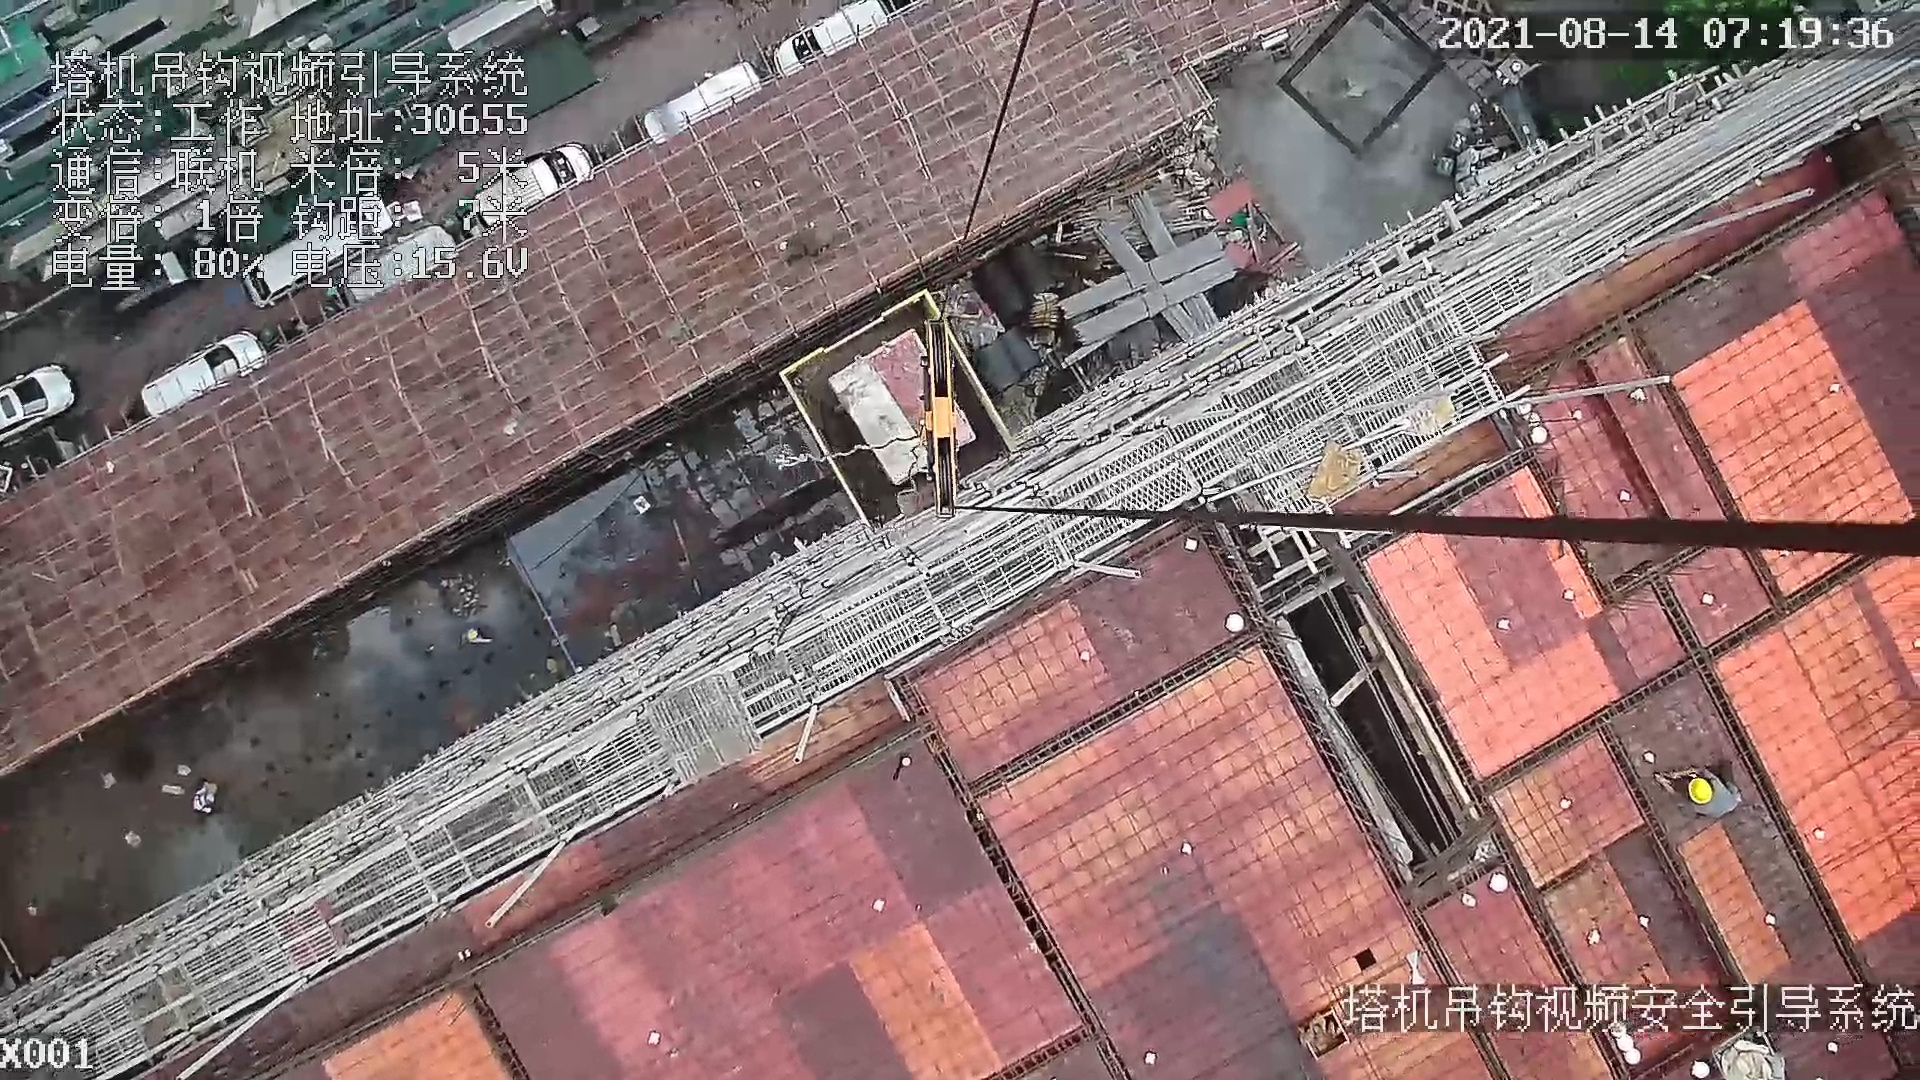helmet: (1684, 775, 1717, 804)
hook: (914, 318, 972, 518)
person: (1653, 758, 1751, 819)
